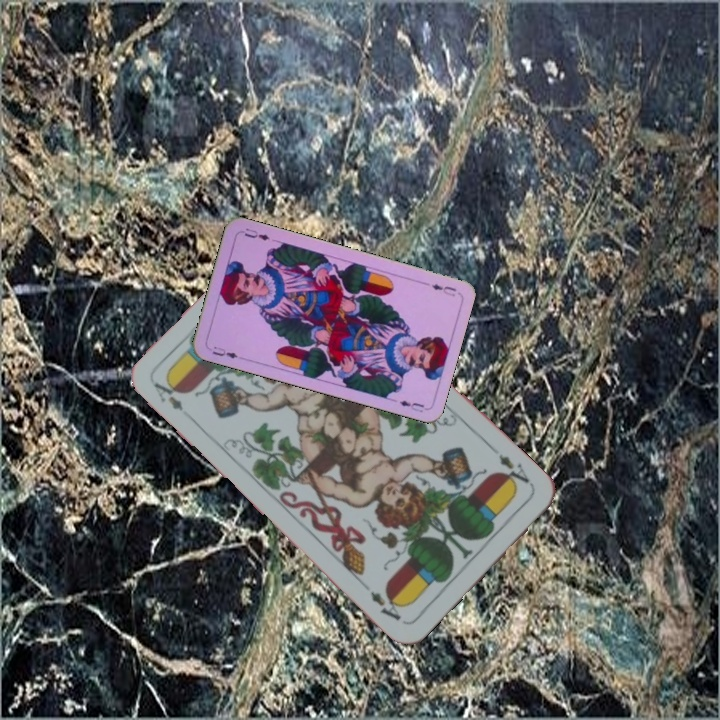EA: (494, 450, 536, 491), (149, 374, 186, 414)
EU: (427, 279, 459, 299), (208, 342, 240, 361)
